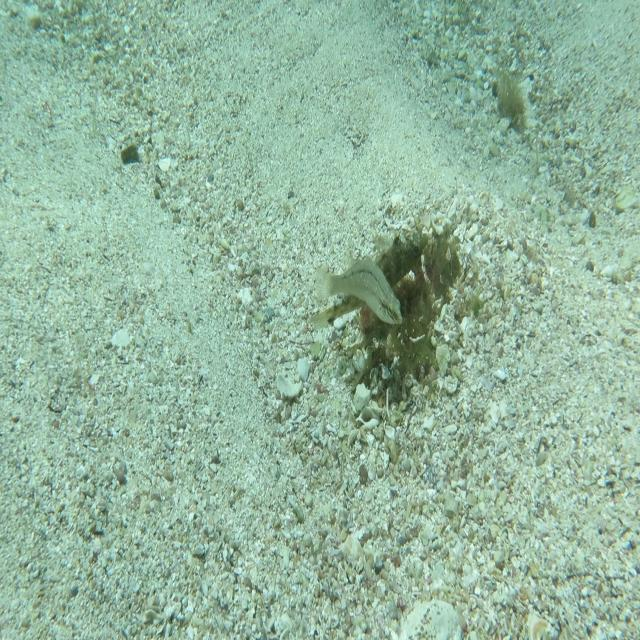ROLL: (307, 226, 429, 332)
core_nest: (412, 240, 445, 275)
female: (313, 252, 404, 326)
nest: (346, 203, 474, 419)
vegetation: (486, 60, 530, 128), (119, 140, 141, 170)
